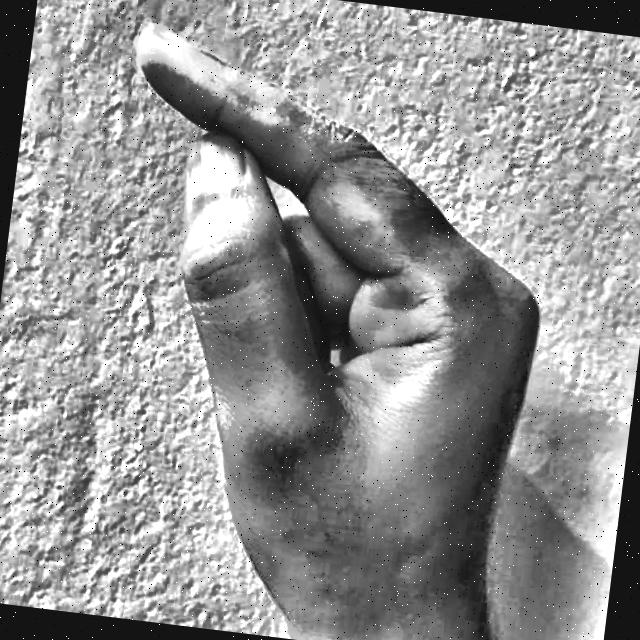Tha: (42, 0, 599, 640)
